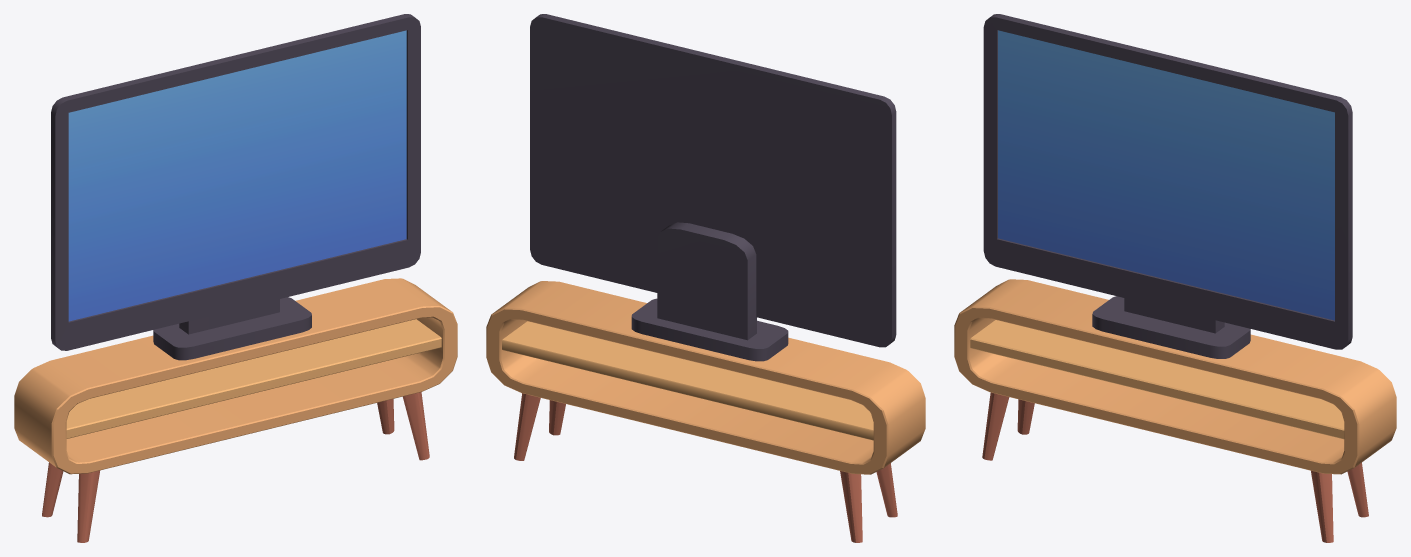
3 renders of one model, left to right at view 1: azimuth 30°, elevation 25°; view 2: azimuth 150°, elevation 25°; view 3: azimuth 330°, elevation 25°, orthographic.
Visible parts, largest first — view 1: TV; view 2: TV; view 3: TV.
Part boxes in pixels (<box>): TV: <box>14,14,457,542</box>; TV: <box>486,14,925,542</box>; TV: <box>954,14,1396,542</box>.
Size of the model in its own units: 14.78 by 15.07 by 2.54.
Materials: 1 (1 with a texture image).
